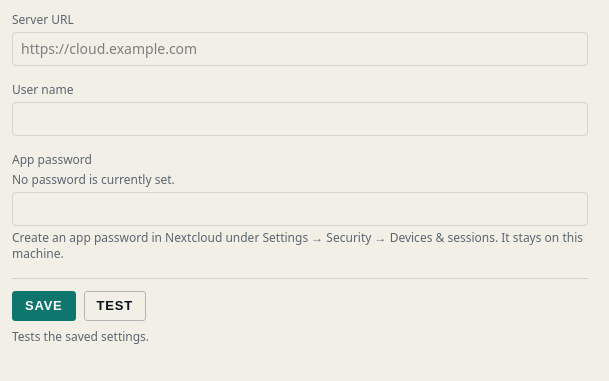
Test: NextcloudPanel › keeps what was typed before the saved values load
Type "https://typed.example.com" into the field labelled "Server URL".
click(300, 49); type("https://typed.example.com")  # box [12,32,588,66]
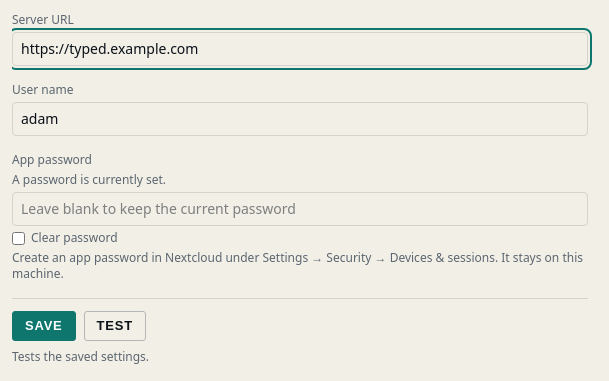
expect the text "A password is currently set." is shown: met, box [12,171,166,188]
expect the field labelled "User name" holds "adam": met, box [12,102,588,136]
